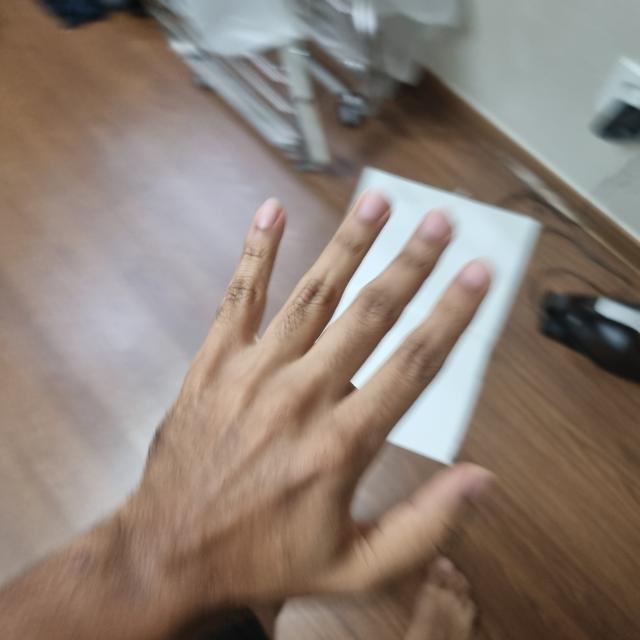Paper: (0, 0, 498, 626)
